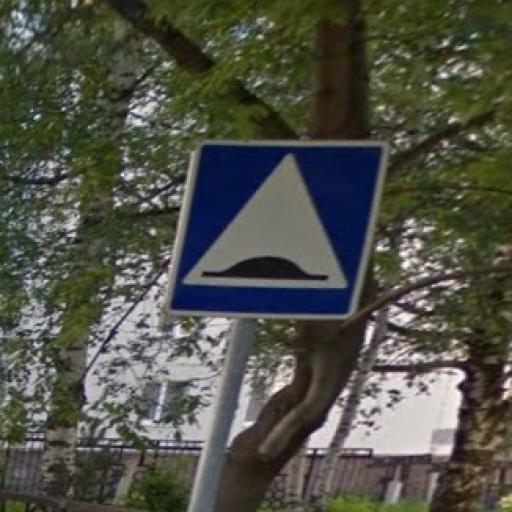traffic_sign: (166, 136, 392, 325)
